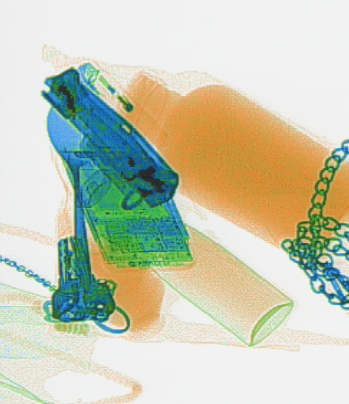knife: (35, 64, 182, 210)
lighter: (70, 54, 169, 152)
pressure: (76, 161, 296, 347)
